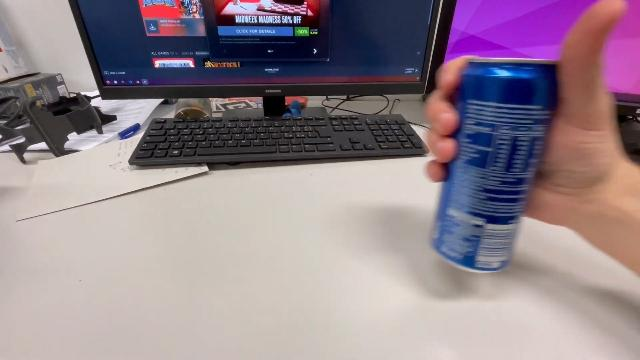Pepsi: (428, 52, 562, 278)
